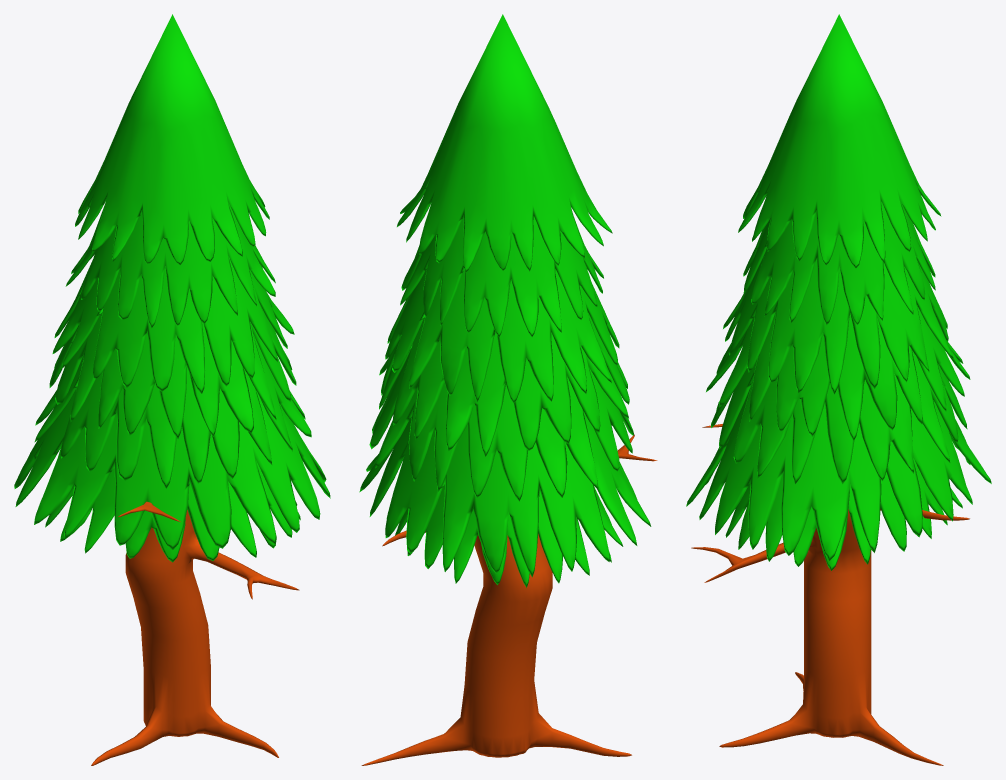
File: SM_Pine_02.fbx
3 renders of one model, left to right at view 1: azimuth 30°, elevation 25°; view 2: azimuth 150°, elevation 25°; view 3: azimuth 270°, elevation 25°, orthographic. The views are drawn at different scales.
Visible parts, largest first — view 1: pine02; view 2: pine02; view 3: pine02.
Boxes of the visible parts, x1,y1,x2,y2 form: pine02: [14, 14, 330, 765]; pine02: [359, 14, 657, 765]; pine02: [686, 14, 991, 765].
Bounding box in the file's own units: 1878 × 4716 × 1837.
